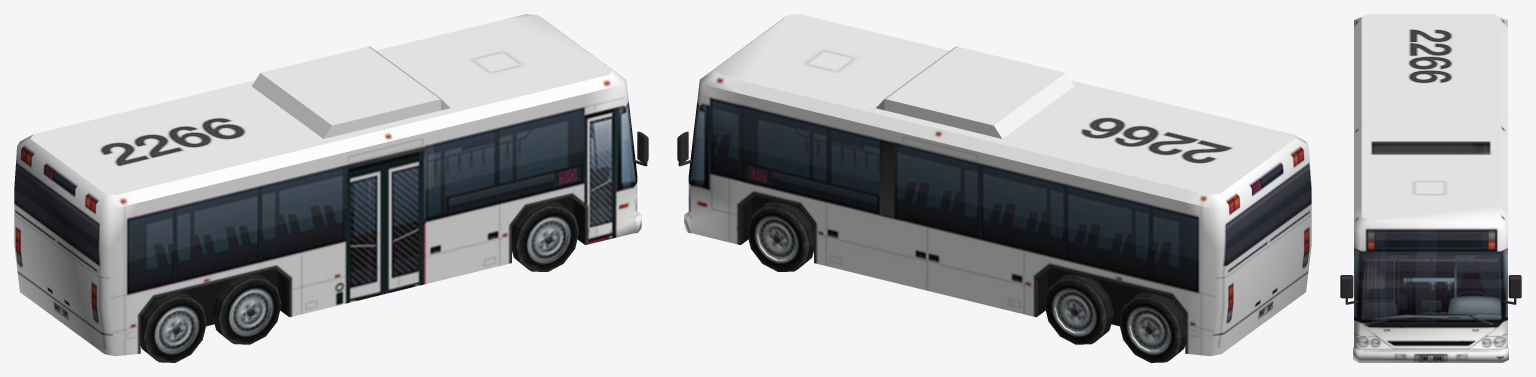
The model's file is bus.fbx.
3 renders of one model, left to right at view 1: azimuth 30°, elevation 25°; view 2: azimuth 150°, elevation 25°; view 3: azimuth 270°, elevation 25°, orthographic. The views are drawn at different scales.
Visible parts, largest first — view 1: polySurface24; view 2: polySurface24; view 3: polySurface24.
Part boxes in pixels (bbox=[...]): polySurface24: bbox=[14, 14, 648, 362]; polySurface24: bbox=[677, 14, 1311, 362]; polySurface24: bbox=[1340, 14, 1521, 362].
Bounding box in the file's own units: 8.31 × 2.8 × 2.89.
